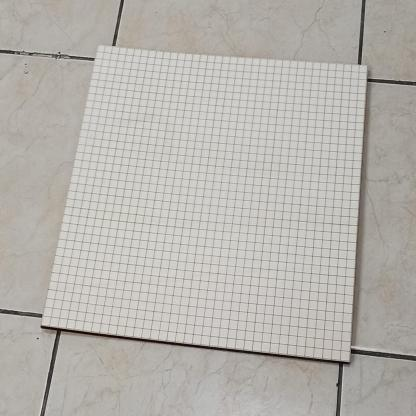grid: (38, 41, 374, 372)
